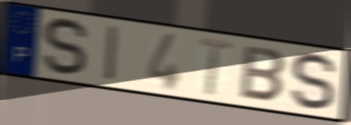4: (145, 30, 182, 92)
B: (238, 43, 289, 105)
I: (104, 22, 121, 84)
S: (42, 16, 91, 78), (290, 51, 339, 113)
T: (198, 35, 234, 98)
